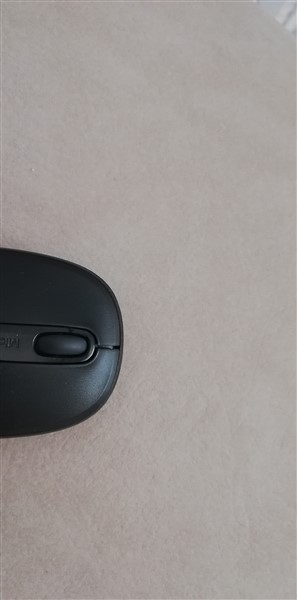mouse: (1, 244, 128, 447)
